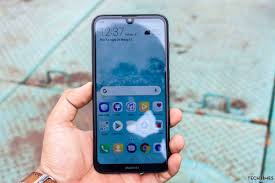huawei: (89, 10, 169, 173)
